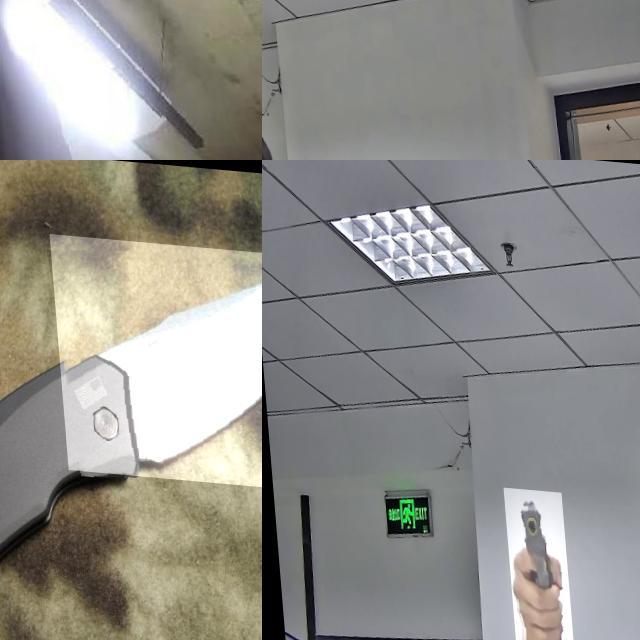-: (48, 228, 262, 486)
gun-knife-thesis - v11 Yolov5 augmented: (497, 482, 566, 640), (262, 46, 295, 160)
